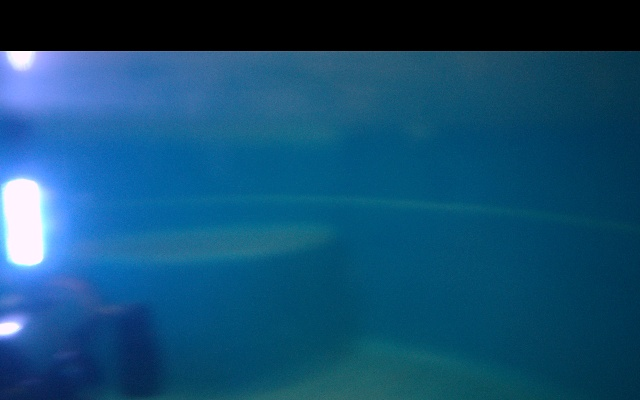white: (4, 177, 46, 273)
